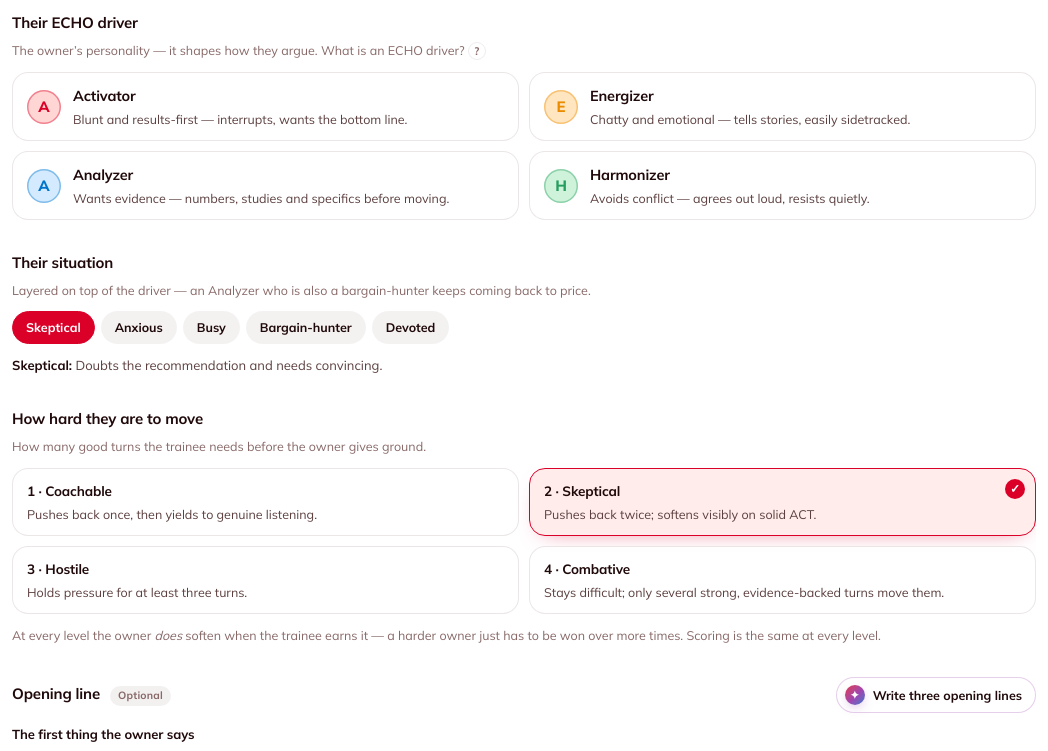
Test case: CustomerStep › persona chips patch and explain the one picked
Expected: the text "Skeptical: Doubts the recommendation and needs convincing." is shown, x1=12 y1=357 x2=382 y2=373
Step 1. Click the button "Bargain-hunter" → (306, 328), box x1=246 y1=311 x2=366 y2=344
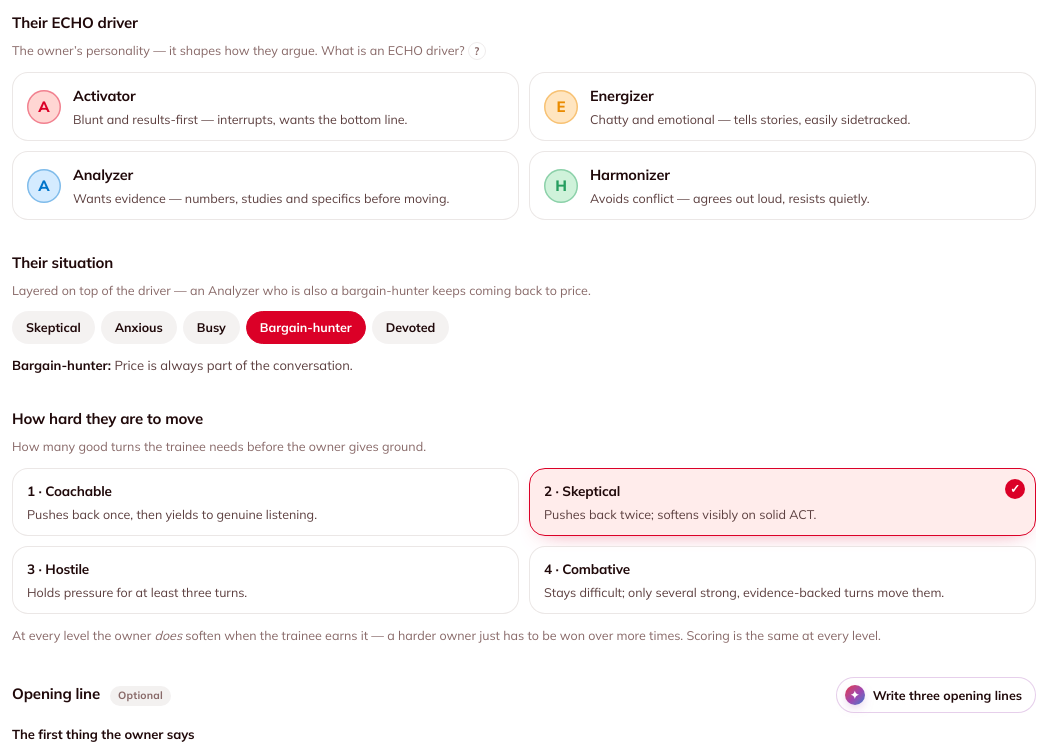
Expected: the text "Bargain-hunter: Price is always part of the conversation." is shown, x1=12 y1=357 x2=353 y2=373
